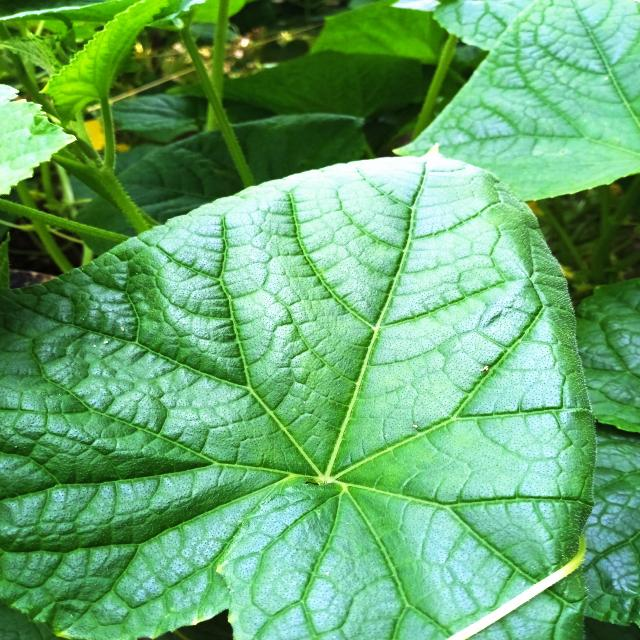Fresh-Leaf: (0, 142, 598, 640)
